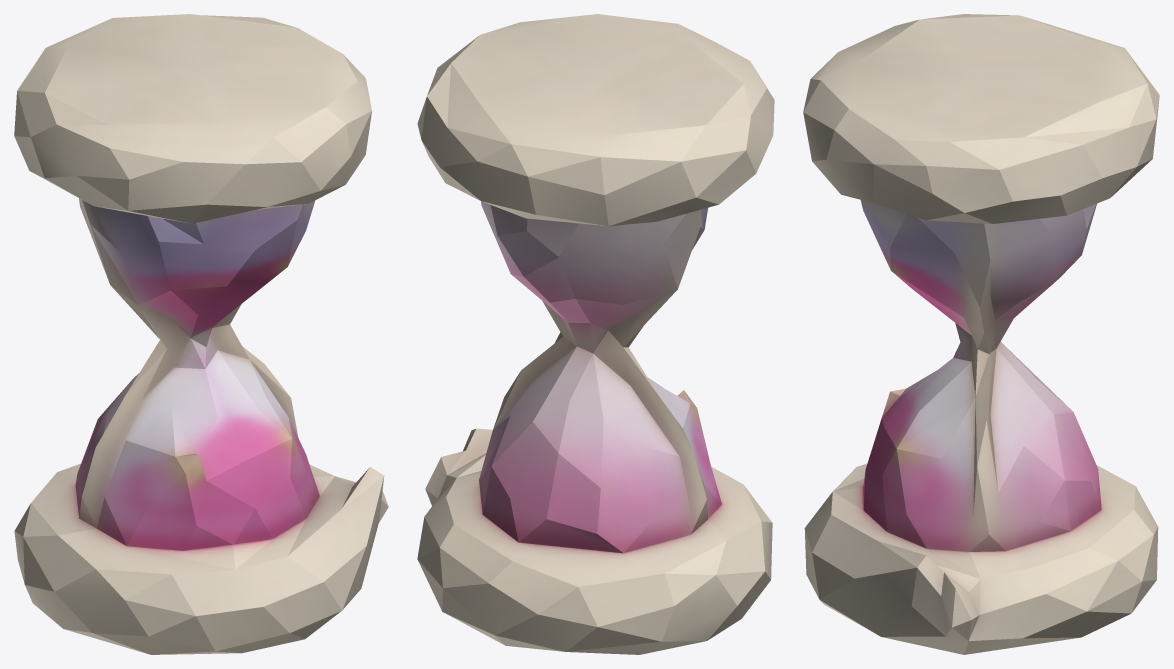
3 renders of one model, left to right at view 1: azimuth 30°, elevation 25°; view 2: azimuth 150°, elevation 25°; view 3: azimuth 270°, elevation 25°, orthographic.
Visible parts, largest first — view 1: model; view 2: model; view 3: model.
Part boxes in pixels (bbox=[...]): model: bbox=[14, 14, 388, 654]; model: bbox=[417, 14, 774, 654]; model: bbox=[803, 14, 1159, 654].
Bounding box in the file's own units: 128 × 191 × 118.
1 material, 1 textured.
